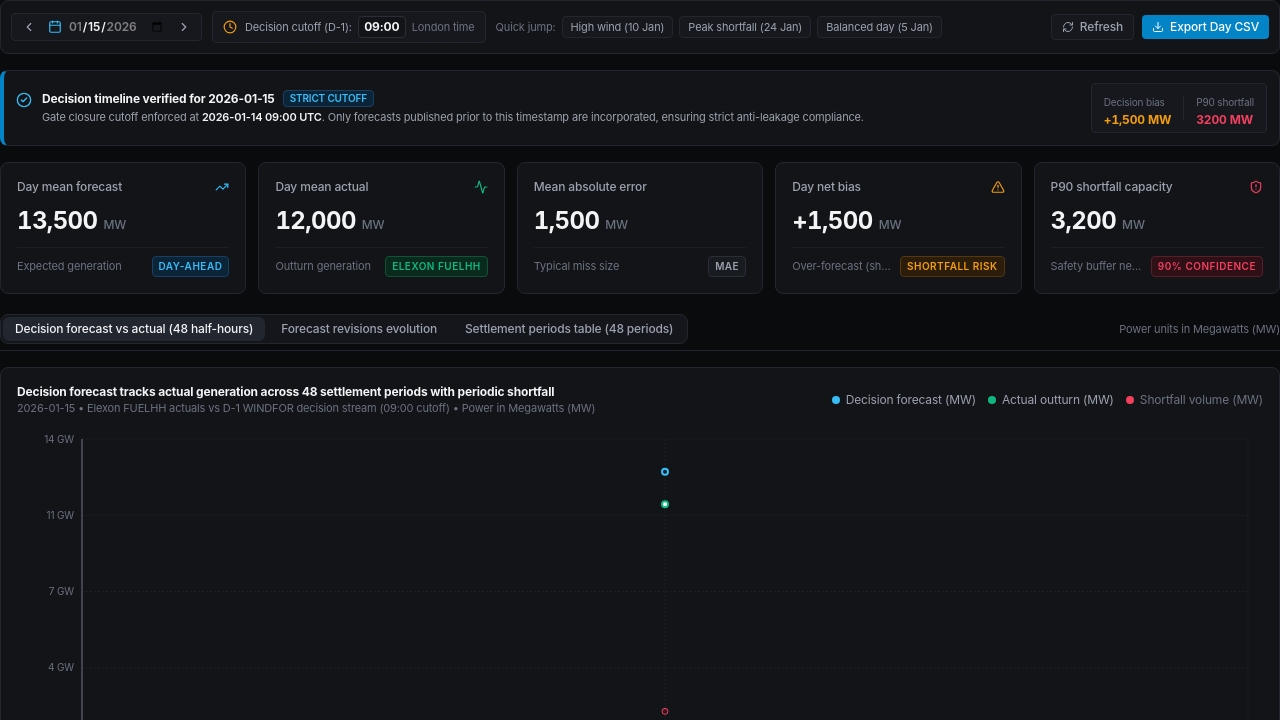
Scenario: DecisionView Component › renders decision summary, KPI cards, and responds to subtab clicks
Expected: the heading "Decision timeline verified for 2026-01-15" is shown, [42,91,275,107]
Expected: the text "13,500" is shown, [17,205,97,237]
Switch to table subtab
Step 1. Click the button "Settlement periods table (48 periods)" → click(569, 329), box [453,317,685,341]
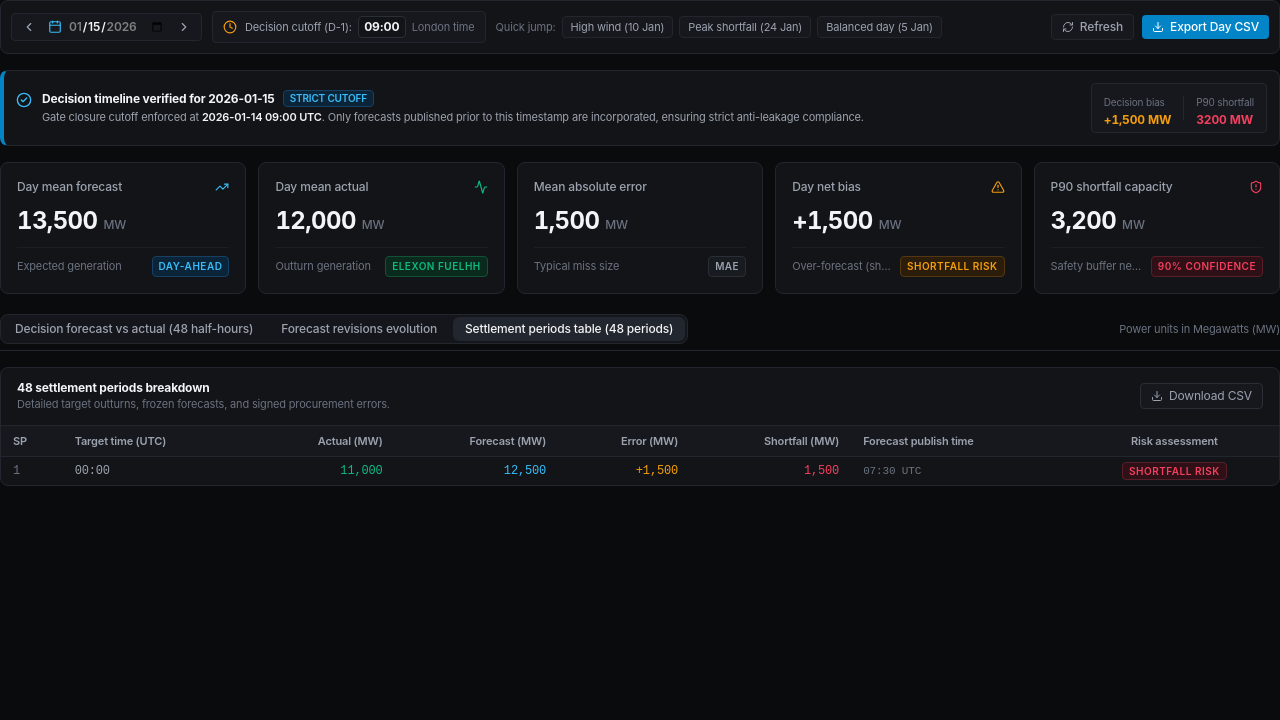
Expected: the heading "48 settlement periods breakdown" is shown, [17,380,210,395]
